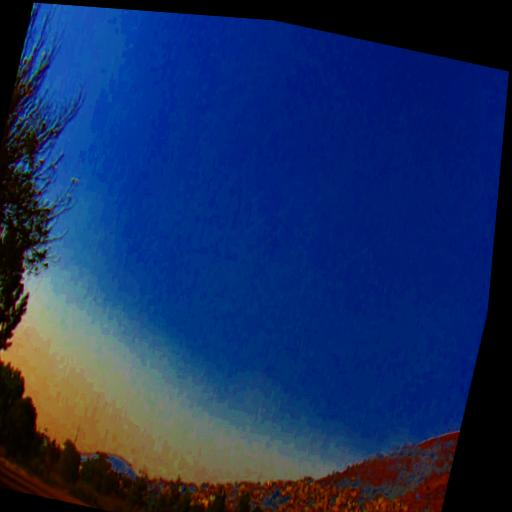drones: (191, 414, 195, 419)
